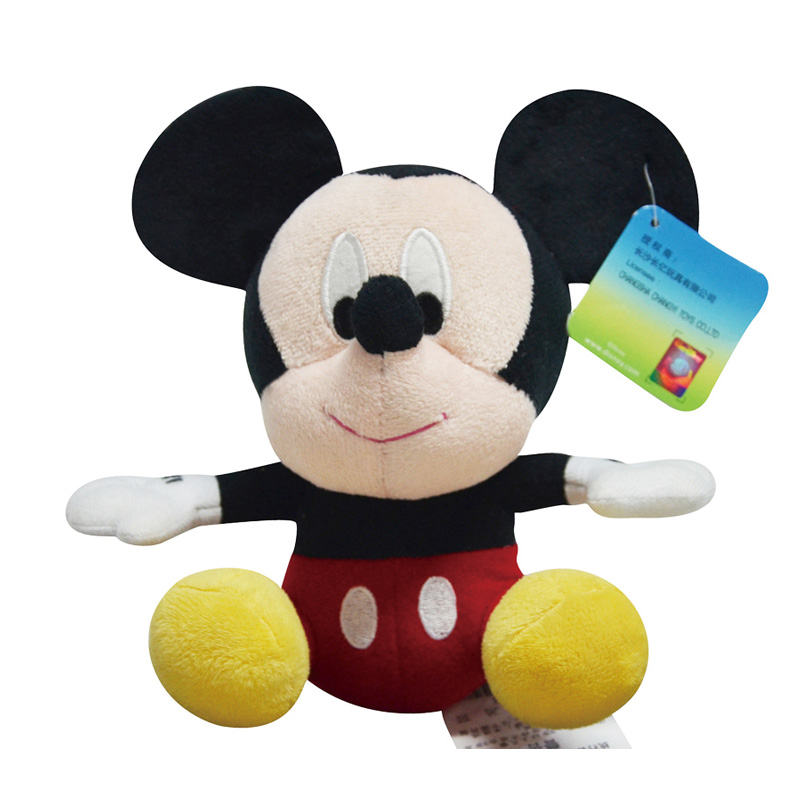Mickey: (128, 83, 701, 502)
